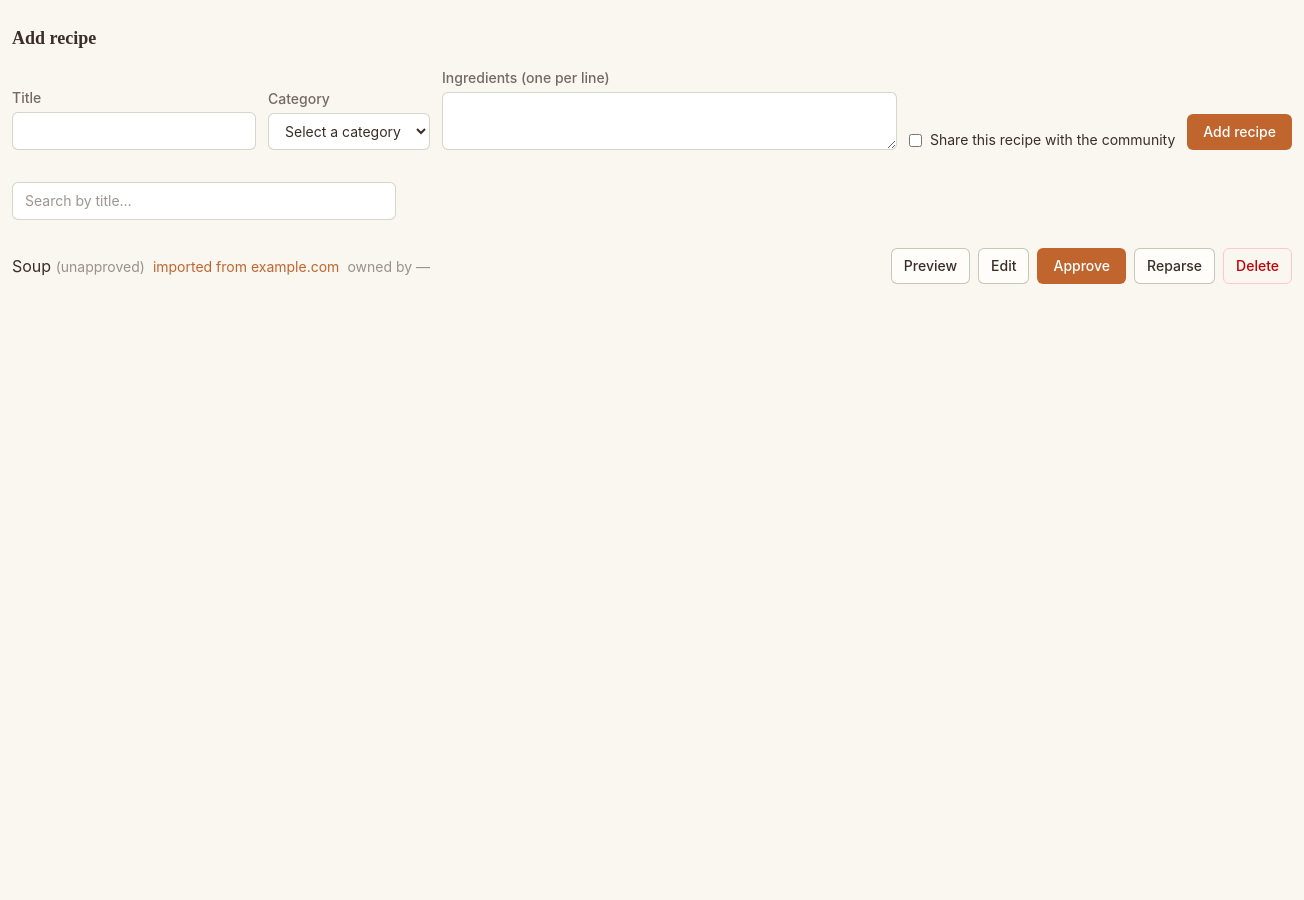
RecipeManager › toggles a preview showing the recipe's full details
Expected: the text "Soup (unapproved) imported from example.com owned by —" is shown, [12, 254, 430, 278]
Expected: the text "A warm soup." is not shown
Click the button "Preview" at (930,266), box [891, 248, 970, 284]
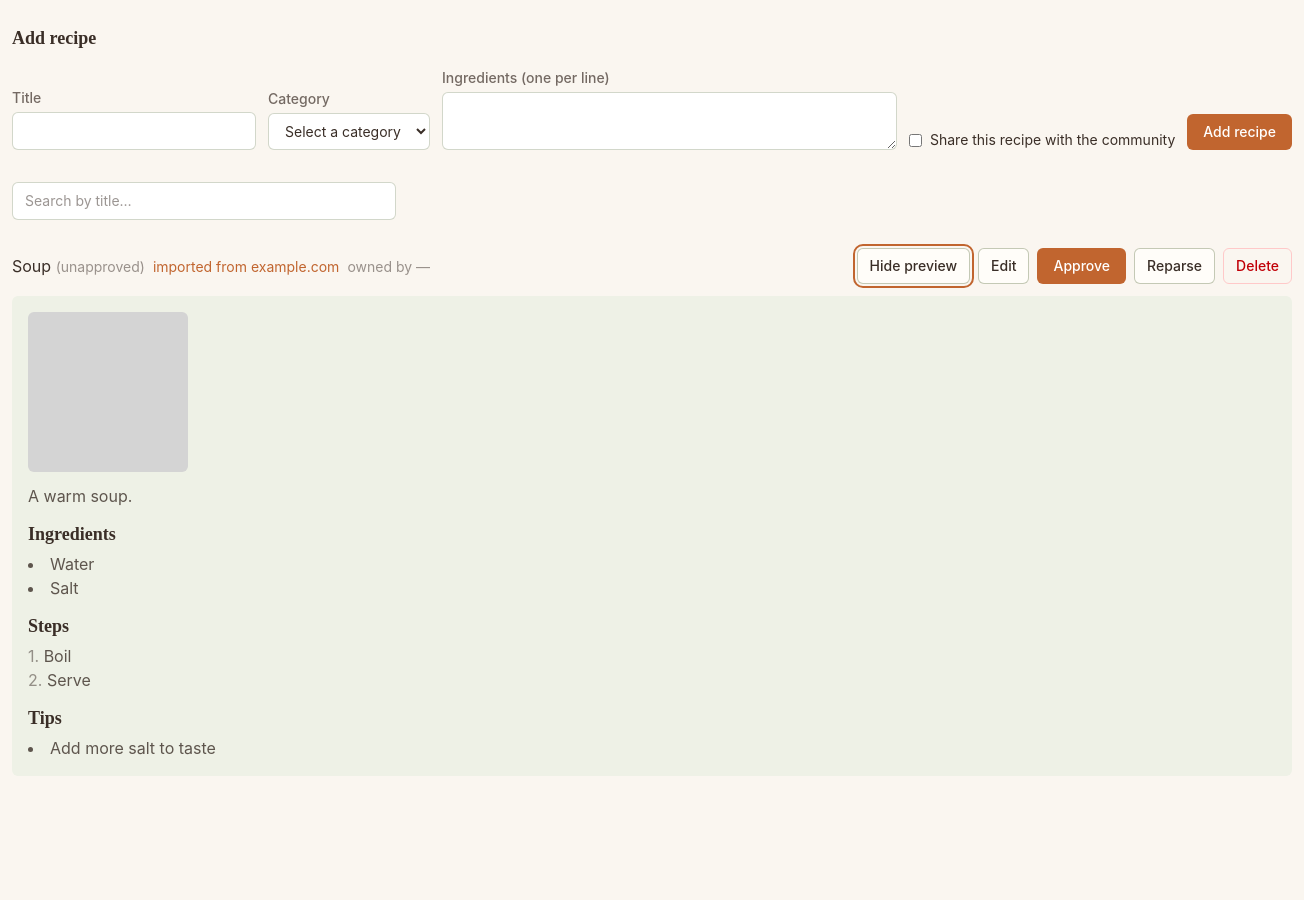
Expected: the text "A warm soup." is shown, [28, 486, 132, 506]
Expected: the text "Boil" is shown, [44, 646, 71, 666]
Click the button "Hide preview" at (913,266), box [857, 248, 970, 284]
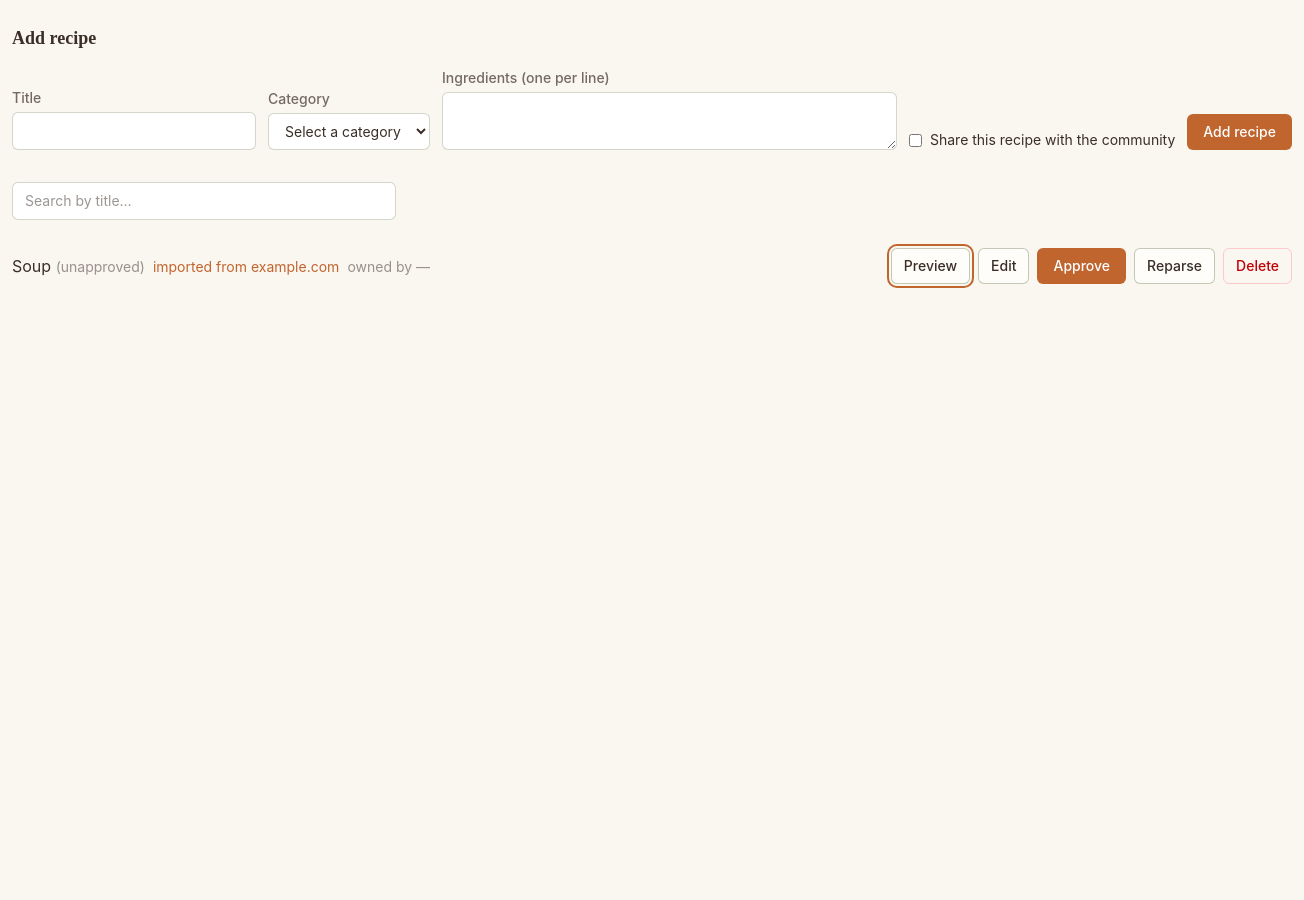
Expected: the text "A warm soup." is gone
